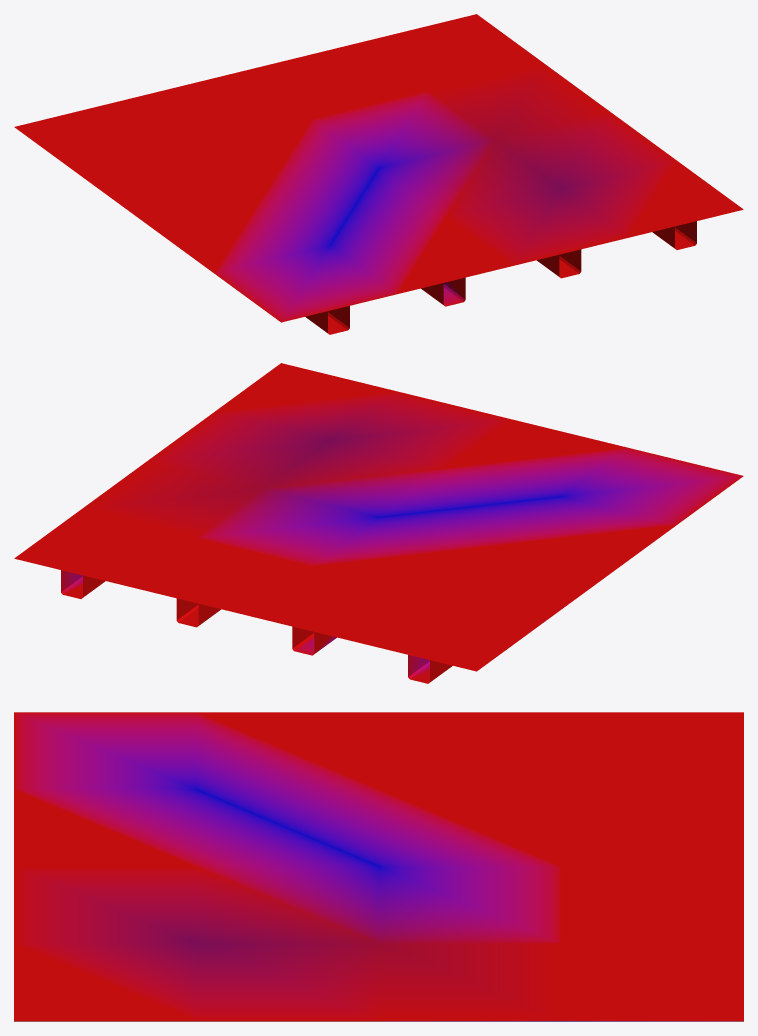
The model's file is CeilingA_8x8.fbx.
3 views of the same model, one above another, from view 1: azimuth 30°, elevation 25°; view 2: azimuth 150°, elevation 25°; view 3: azimuth 270°, elevation 25° (orthographic). The views are drawn at different scales.
Visible parts, largest first — view 1: Plane.001; view 2: Plane.001; view 3: Plane.001.
Part boxes in pixels (left/top/right/bottom): Plane.001: left=14, top=14, right=743, bottom=334; Plane.001: left=14, top=363, right=743, bottom=683; Plane.001: left=14, top=712, right=743, bottom=1021.
Bounding box in the file's own units: 800 × 40 × 800.
